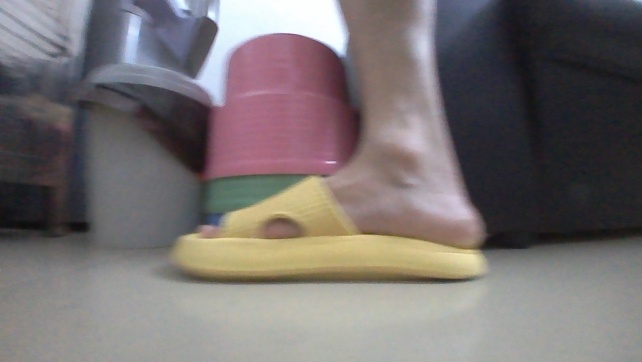slipper: (165, 171, 493, 285)
